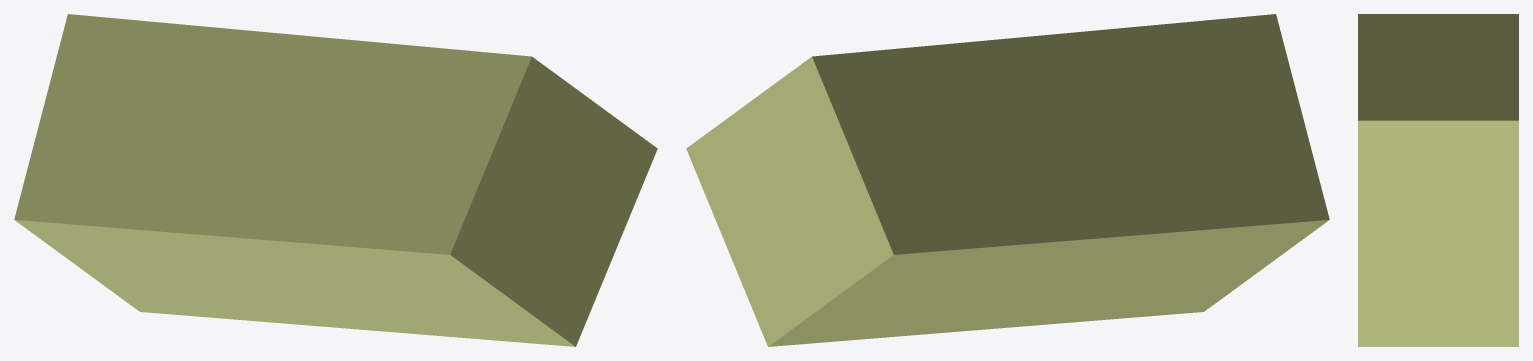
The picture shows the model from 3 angles, left to right: view 1: azimuth 30°, elevation 25°; view 2: azimuth 150°, elevation 25°; view 3: azimuth 270°, elevation 25°; orthographic projection. The views are drawn at different scales.
Parts seen in each view (by area): view 1: 0_1_0_0_2_1_0_2_1_1_3; view 2: 0_1_0_0_2_1_0_2_1_1_3; view 3: 0_1_0_0_2_1_0_2_1_1_3.
Boxes of the visible parts, x1,y1,x2,y2 form: 0_1_0_0_2_1_0_2_1_1_3: (14, 14, 657, 346); 0_1_0_0_2_1_0_2_1_1_3: (686, 14, 1329, 346); 0_1_0_0_2_1_0_2_1_1_3: (1358, 14, 1518, 346).
Size of the model in its own units: 14.26 by 8.79 by 6.
